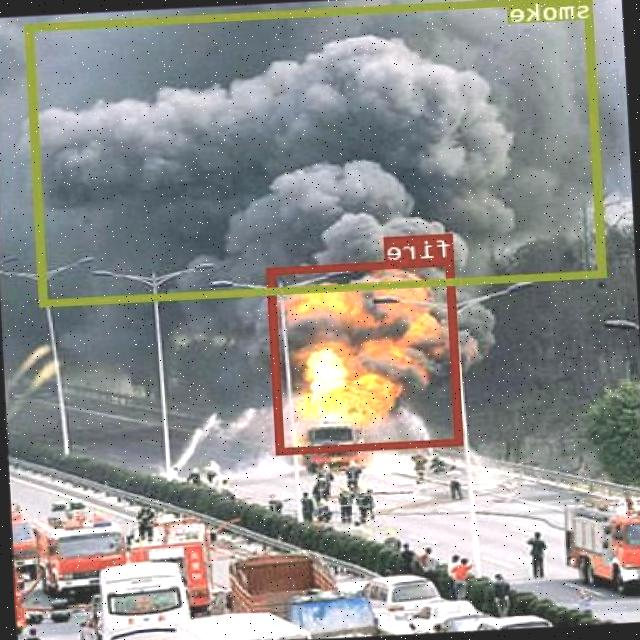fire: (270, 258, 463, 452)
smoke: (26, 0, 608, 306)
